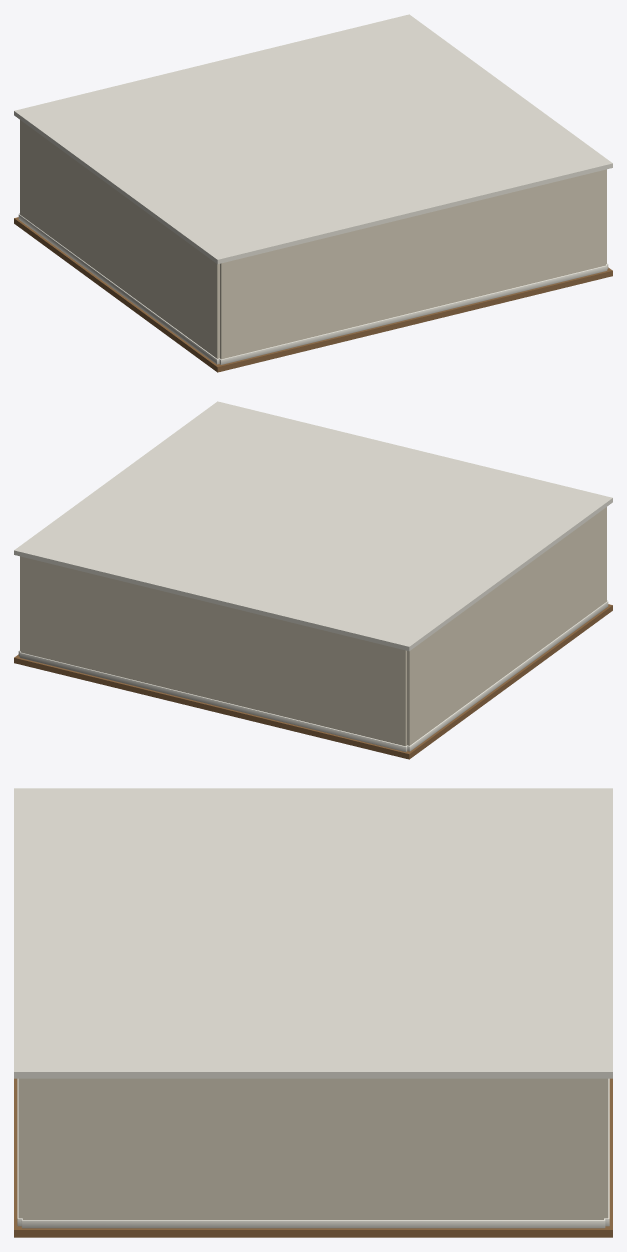
The model's file is room.glb.
The picture shows the model from 3 angles, top to bottom: view 1: azimuth 30°, elevation 25°; view 2: azimuth 150°, elevation 25°; view 3: azimuth 270°, elevation 25°; orthographic projection. The views are drawn at different scales.
Parts seen in each view (by area): view 1: Furnished room education; view 2: Furnished room education; view 3: Furnished room education.
Boxes of the visible parts, x1,y1,x2,y2 form: Furnished room education: [14, 14, 612, 372]; Furnished room education: [14, 401, 612, 759]; Furnished room education: [14, 788, 612, 1237].
Bounding box in the file's own units: 18.5 × 5.04 × 16.5.
